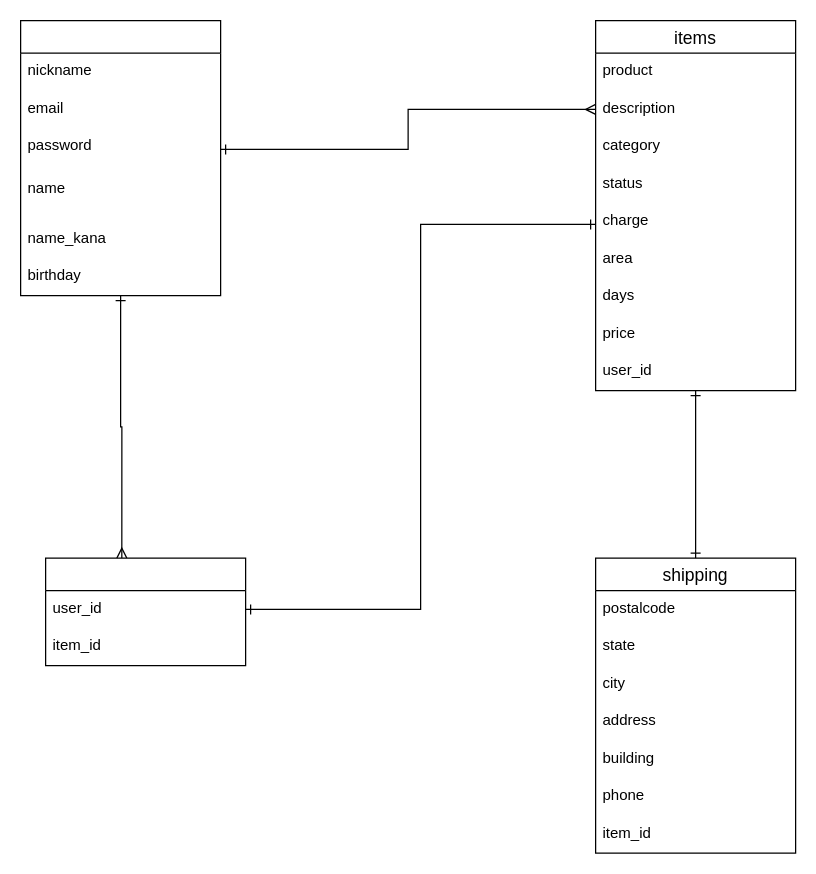
This 816x874 diagram has some shape labels left out. The box of each missing label's shape, as (x1, y1, x2, y2) in pixels:
purchases: (44, 557, 246, 666)
users: (19, 19, 221, 296)
